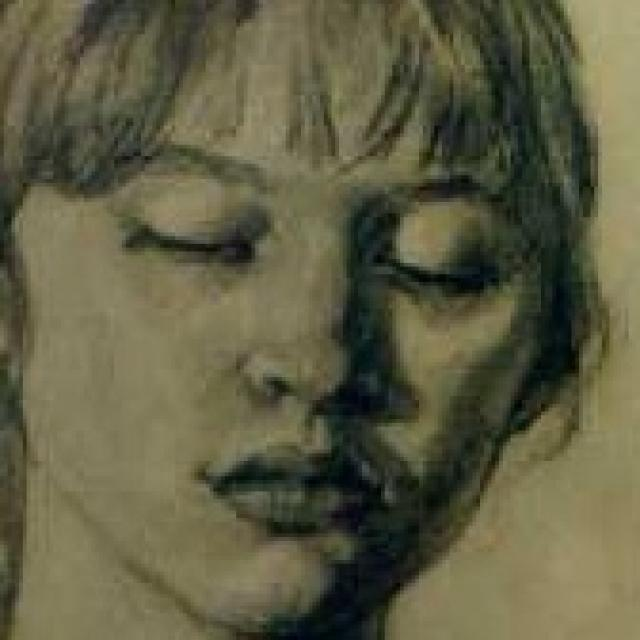Eyeclosed: (382, 249, 482, 300), (142, 222, 247, 270)
